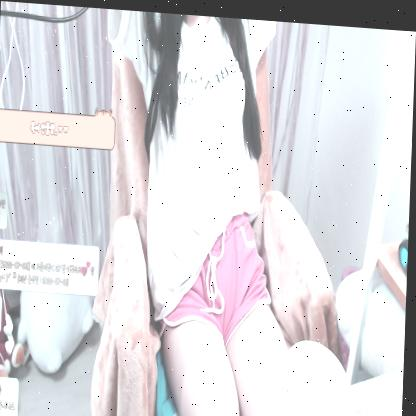streamer: (94, 6, 300, 416)
